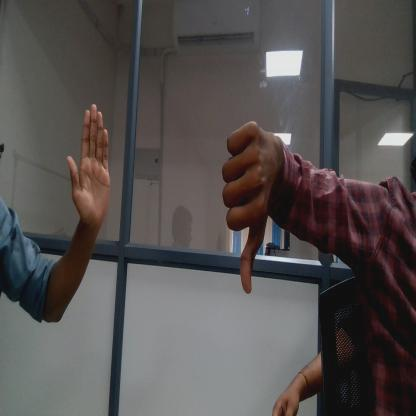Stop: (65, 97, 114, 235)
Thumbs Down: (220, 121, 275, 297)
